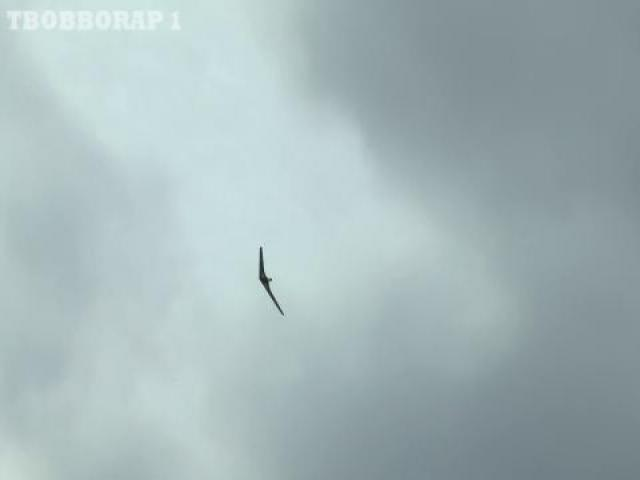flying wing: (252, 244, 287, 321)
